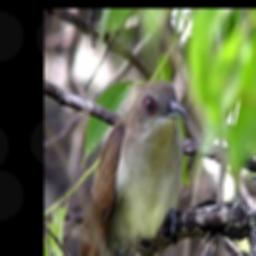Cuckoo: (78, 79, 189, 256)
